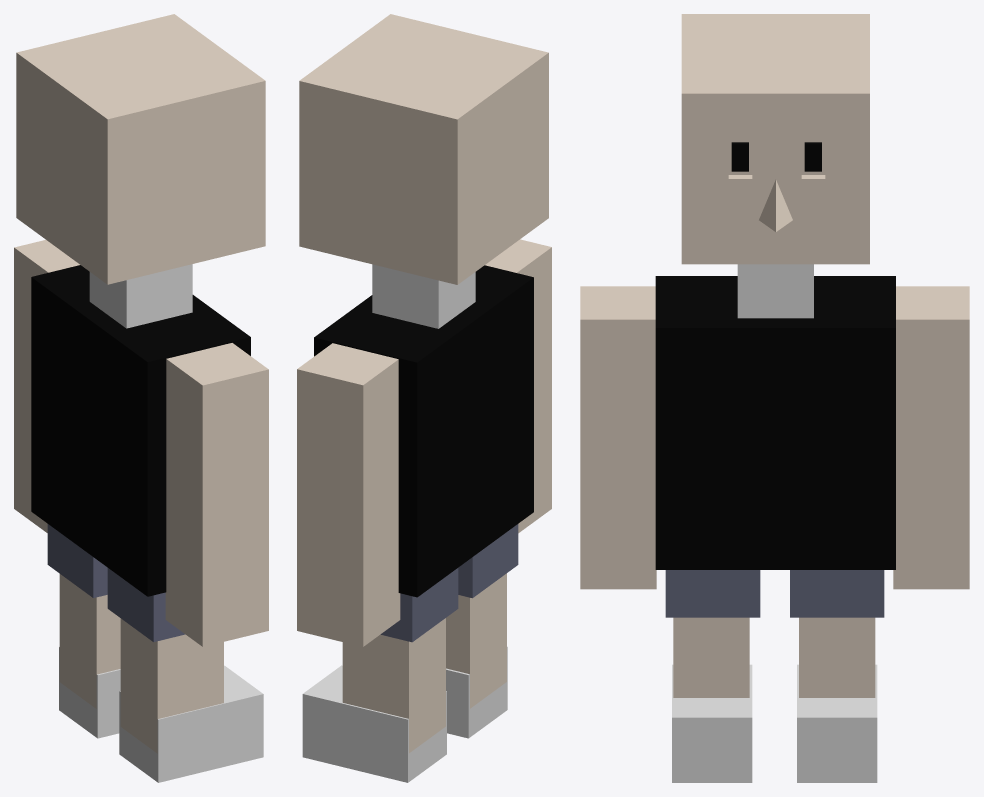
File: CharacterAlive.fbx
3 views of the same model, side by side, from view 1: azimuth 30°, elevation 25°; view 2: azimuth 150°, elevation 25°; view 3: azimuth 270°, elevation 25° (orthographic). The views are drawn at different scales.
Visible parts, largest first — view 1: pCube20, pCube7, pCube13, pCube9, pCube12, pCube14, pCube10, pCube8, pCube24, pCube11, pCube23; view 2: pCube20, pCube7, pCube14, pCube11, pCube10, pCube13, pCube9, pCube8, pCube23, pCube12, pCube24; view 3: pCube7, pCube20, pCube13, pCube14, pCube12, pCube11, pCube9, pCube10, pCube24, pCube23, pCube8, pCone2.
Boxes of the visible parts, box(x1,y1,x2,y2) form: pCube20: box(16, 14, 265, 284); pCube7: box(31, 265, 250, 596); pCube13: box(165, 343, 268, 646); pCube9: box(120, 618, 223, 753); pCube12: box(119, 665, 263, 782); pCube14: box(14, 240, 79, 532); pCube10: box(59, 574, 120, 708); pCube8: box(89, 264, 192, 328); pCube24: box(107, 568, 185, 642); pCube11: box(59, 646, 120, 738); pCube23: box(47, 524, 107, 597); pCube20: box(299, 14, 548, 284); pCube7: box(314, 265, 533, 597); pCube14: box(297, 343, 400, 646); pCube11: box(302, 665, 446, 782); pCube10: box(342, 618, 445, 753); pCube13: box(485, 239, 551, 533); pCube9: box(446, 573, 506, 708); pCube8: box(372, 264, 475, 328); pCube23: box(380, 568, 458, 642); pCube12: box(446, 646, 507, 738); pCube24: box(458, 524, 518, 598); pCube7: box(655, 276, 895, 569); pCube20: box(681, 14, 869, 264); pCube13: box(580, 286, 656, 589); pCube14: box(893, 286, 969, 589); pCube12: box(672, 664, 752, 782); pCube11: box(797, 664, 877, 782); pCube9: box(673, 617, 749, 697); pCube10: box(799, 617, 875, 697); pCube24: box(665, 570, 760, 617); pCube23: box(790, 570, 884, 617); pCube8: box(737, 264, 813, 318); pCone2: box(759, 179, 792, 231).
Size of the model in its own units: 1.16 by 4.06 by 2.07.
